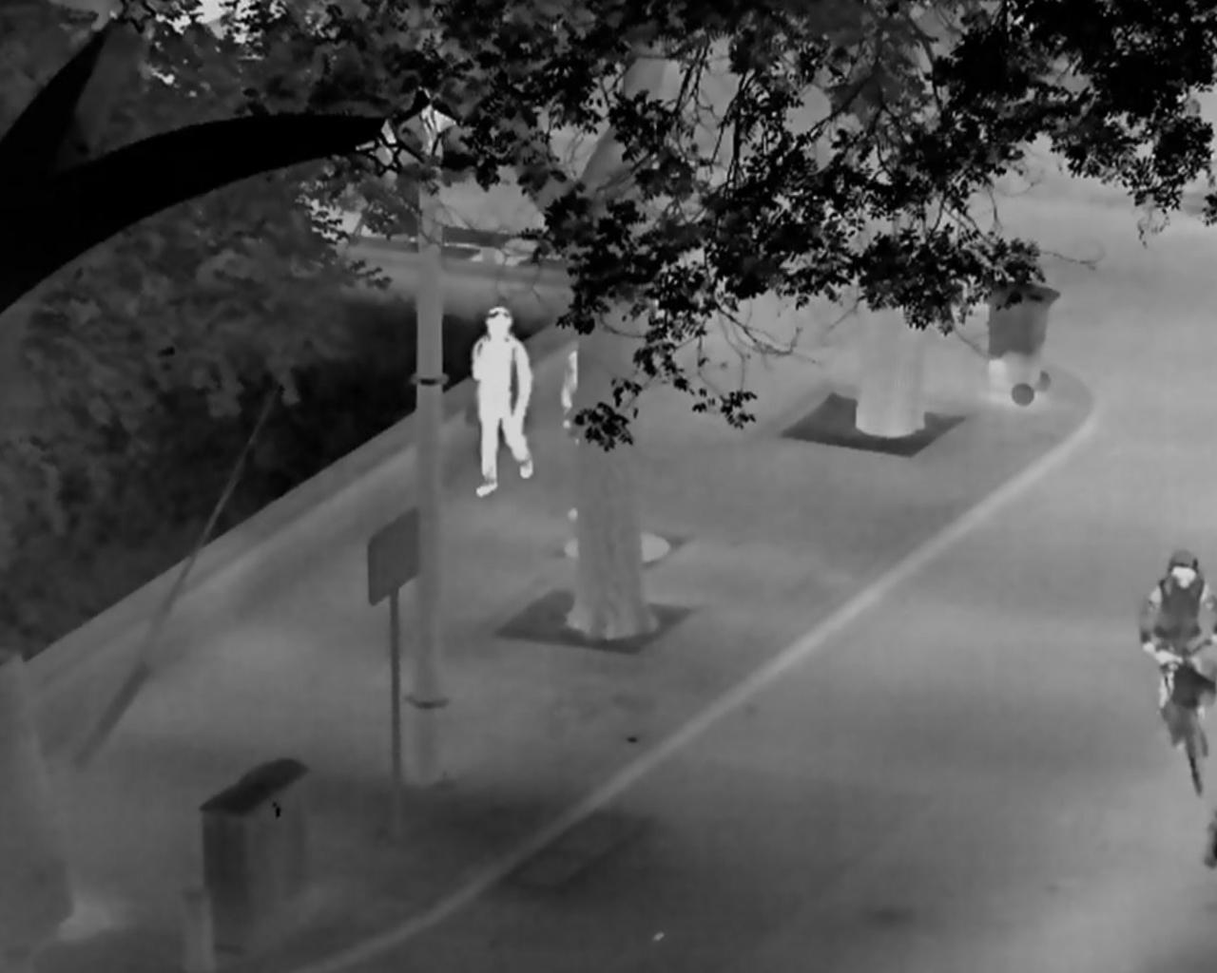person: (1135, 548, 1216, 754), (466, 305, 537, 498), (561, 348, 582, 447)
